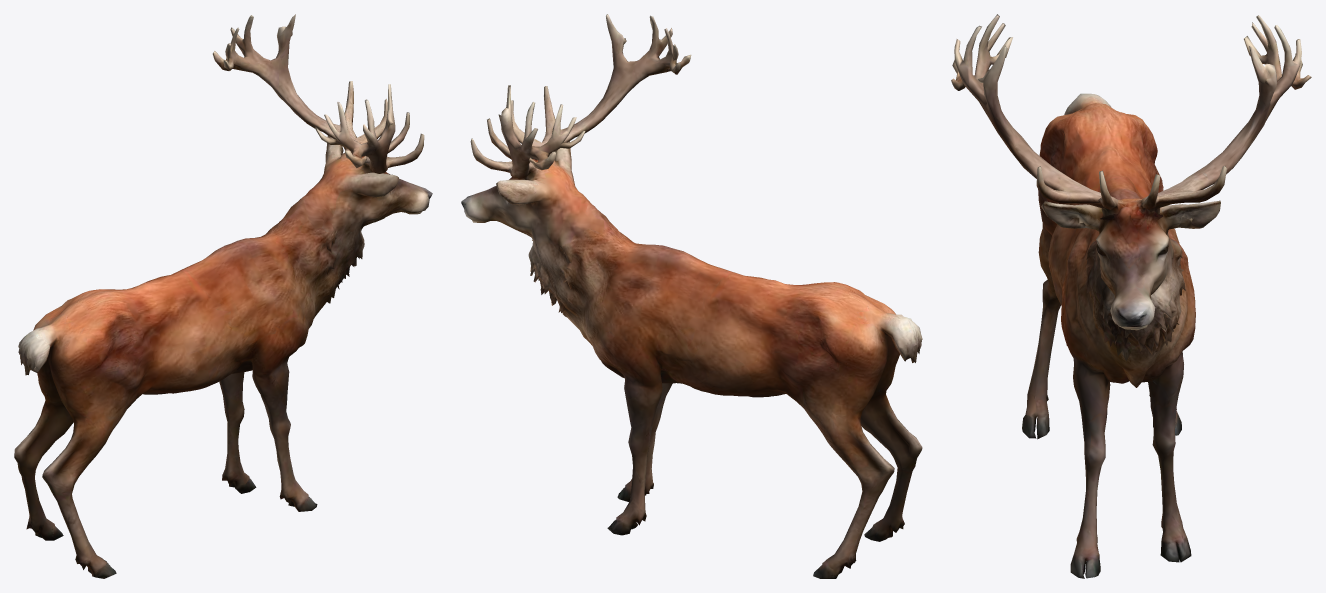
File: hirsch.glb
3 renders of one model, left to right at view 1: azimuth 30°, elevation 25°; view 2: azimuth 150°, elevation 25°; view 3: azimuth 270°, elevation 25°, orthographic. The views are drawn at different scales.
Visible parts, largest first — view 1: tripo_node_5db73990-d9dc-4f4d-9b5a-b959b543e793; view 2: tripo_node_5db73990-d9dc-4f4d-9b5a-b959b543e793; view 3: tripo_node_5db73990-d9dc-4f4d-9b5a-b959b543e793.
Boxes of the visible parts, x1,y1,x2,y2 form: tripo_node_5db73990-d9dc-4f4d-9b5a-b959b543e793: [14, 14, 432, 578]; tripo_node_5db73990-d9dc-4f4d-9b5a-b959b543e793: [461, 14, 922, 578]; tripo_node_5db73990-d9dc-4f4d-9b5a-b959b543e793: [951, 14, 1311, 578].
Size of the model in its own units: 1 by 0.9741 by 0.5681.
1 material, 1 textured.
